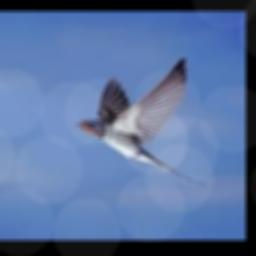Swallow: (76, 56, 205, 184)
